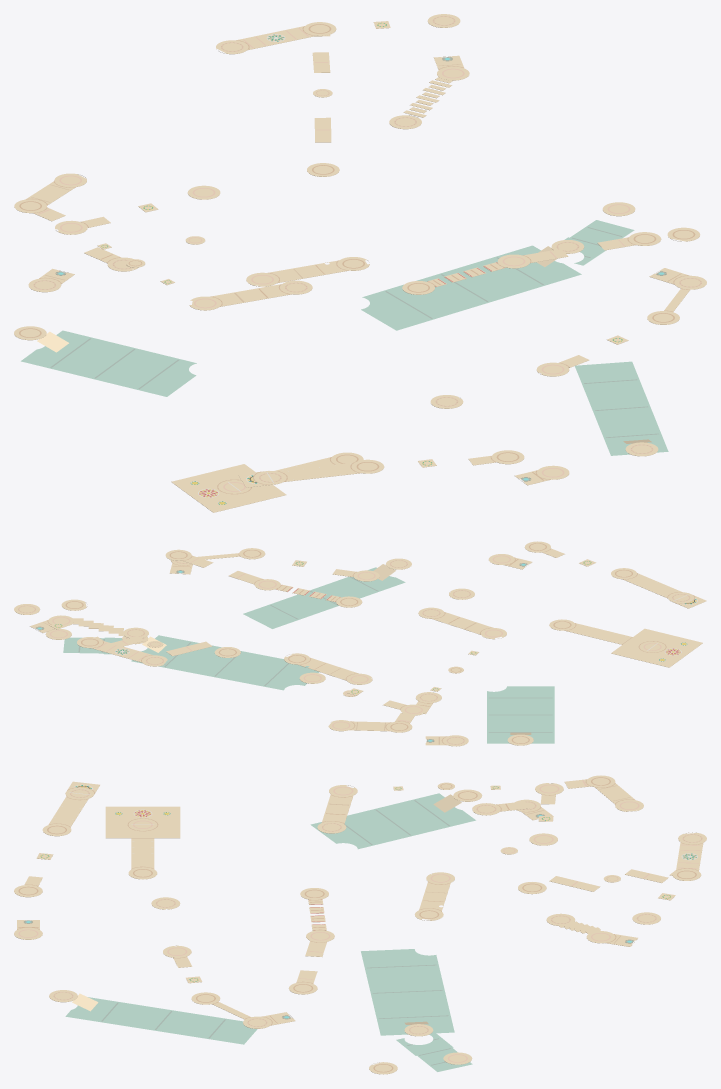
Rendered from run_paving.glb.
3 renders of one model, top to bottom at view 1: azimuth 30°, elevation 25°; view 2: azimuth 150°, elevation 25°; view 3: azimuth 270°, elevation 25°, orthographic. The views are drawn at different scales.
Visible parts, largest first — view 1: run_paving; view 2: run_paving; view 3: run_paving.
Part boxes in pixels (x1,y1,x2,y2): run_paving: (14, 14, 706, 512); run_paving: (14, 541, 706, 746); run_paving: (14, 775, 706, 1074).
Size of the model in its own units: 229 by 55.4 by 242.
